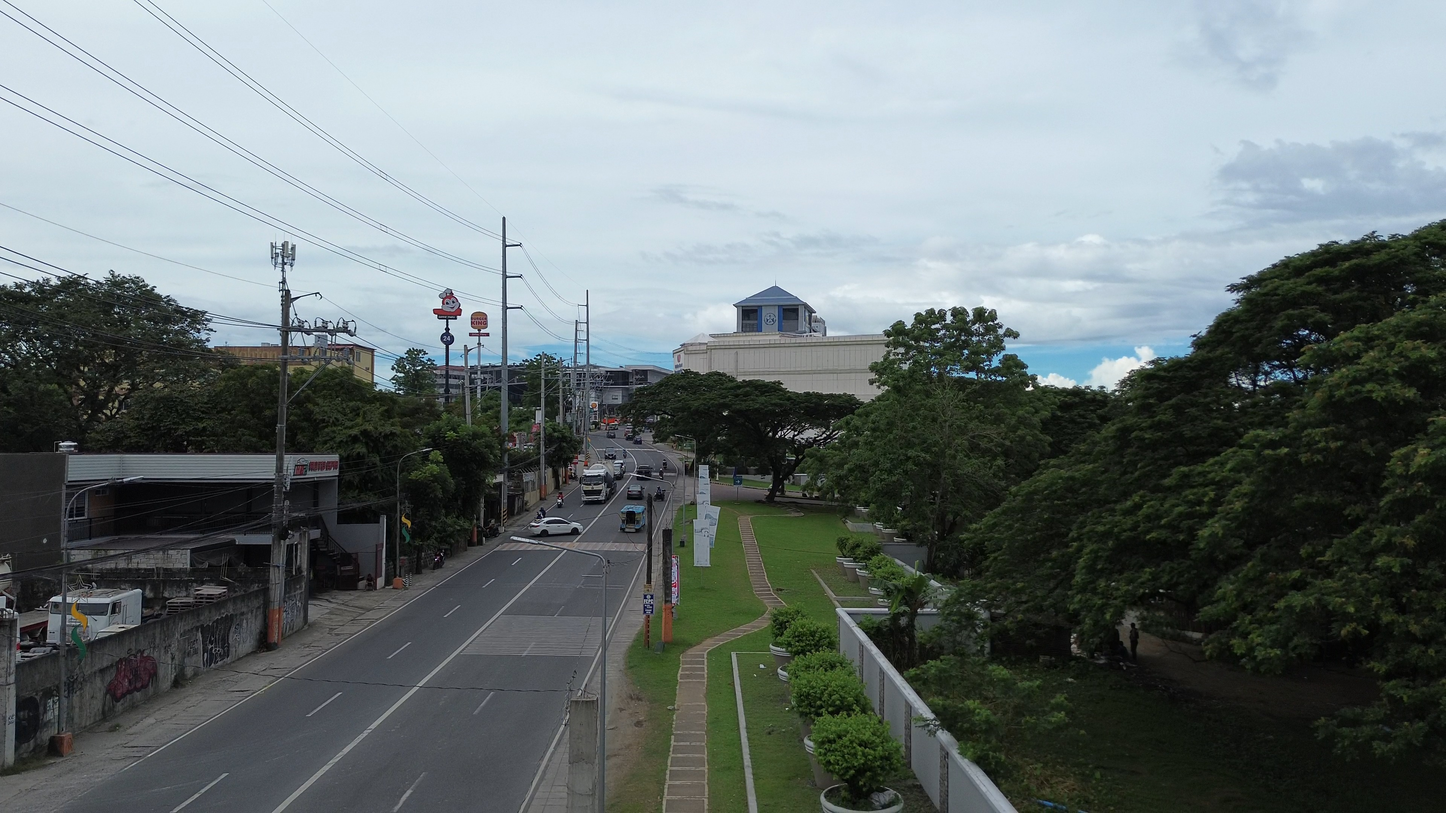car: (529, 517, 583, 535), (625, 483, 644, 500), (636, 465, 652, 477), (633, 436, 643, 445), (606, 430, 615, 437)
vehicle: (47, 589, 142, 642), (580, 464, 615, 503), (620, 505, 646, 532), (625, 483, 644, 500), (635, 464, 652, 477), (613, 461, 624, 476), (654, 486, 665, 501), (604, 449, 616, 460)
